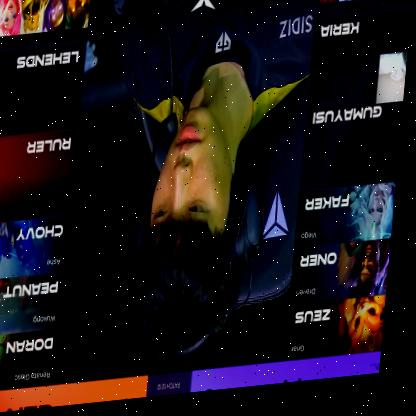streamer: (81, 0, 320, 384)
